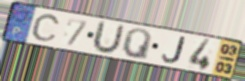4: (187, 37, 212, 73)
7: (65, 18, 89, 47)
C: (30, 13, 62, 43)
J: (161, 36, 187, 65)
Q: (120, 28, 153, 62)
U: (90, 20, 127, 55)
